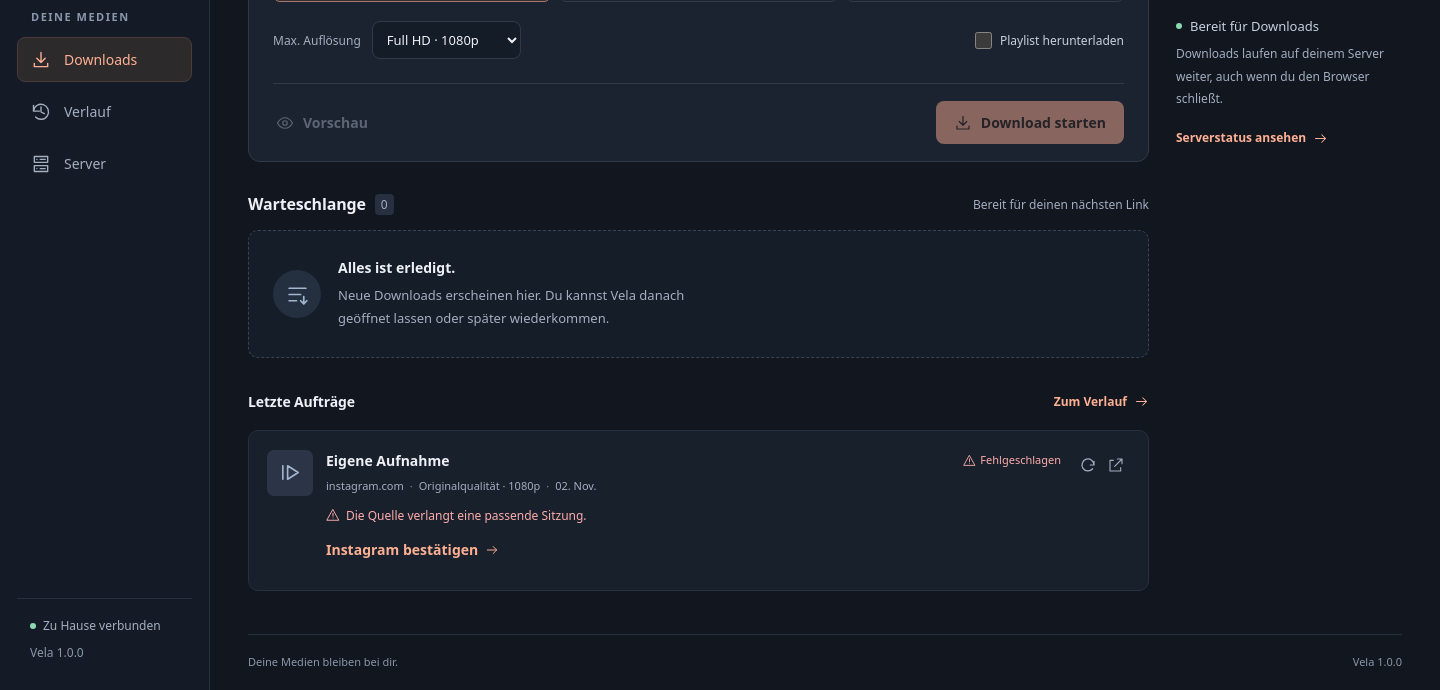
Test case: Vela-Arbeitsabläufe › führt bei einer Zielgruppenbeschränkung direkt zu den passenden Quellsitzungen
(page scrolled)
What coordinates should you click on to do the following:
click the button "Instagram bestätigen"
I would click on:
 (413, 550)
Its box is [326, 534, 499, 566].
(page scrolled)
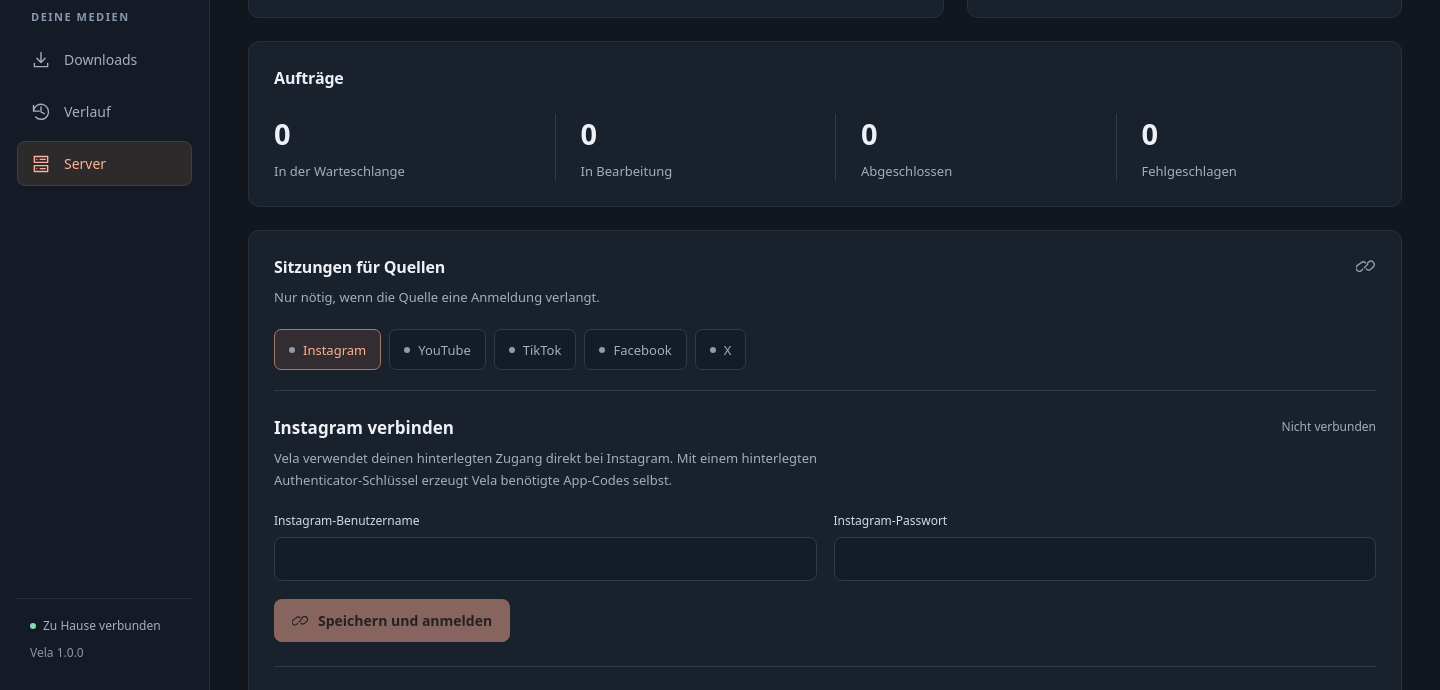
Result: the heading "Sitzungen für Quellen" is shown at [274, 256, 445, 278]
